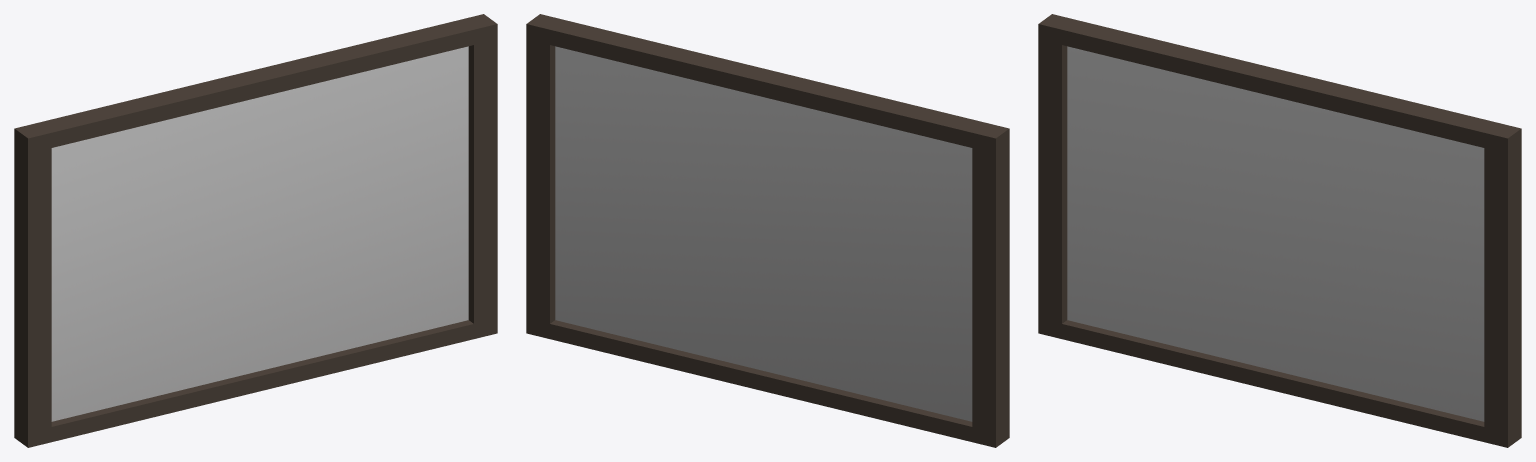
File: Wall Short.fbx
3 renders of one model, left to right at view 1: azimuth 30°, elevation 25°; view 2: azimuth 150°, elevation 25°; view 3: azimuth 330°, elevation 25°, orthographic.
Parts seen in each view (by area): view 1: pCube19; view 2: pCube19; view 3: pCube19.
Boxes of the visible parts, x1,y1,x2,y2 form: pCube19: (14, 14, 497, 447); pCube19: (526, 14, 1009, 447); pCube19: (1038, 14, 1521, 447).
Bounding box in the file's own units: 19.83 × 12.5 × 1.
Materials: 1 (1 with a texture image).
